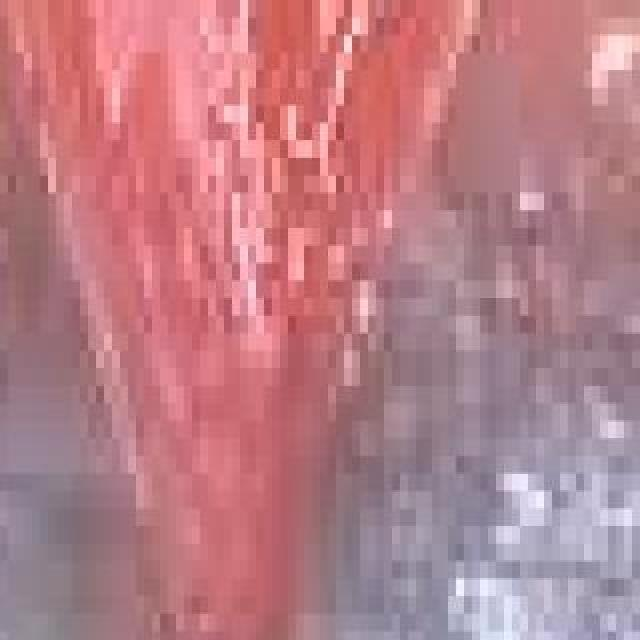cavities: (176, 0, 640, 640), (0, 126, 96, 640)
